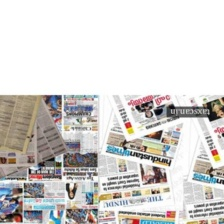news_paper: (0, 92, 98, 182), (0, 94, 71, 182), (98, 107, 187, 170), (98, 147, 176, 212), (0, 181, 97, 223), (107, 93, 188, 143), (185, 95, 223, 174), (0, 95, 43, 156), (183, 131, 224, 190), (0, 116, 40, 168), (181, 175, 223, 223), (99, 206, 177, 224)
